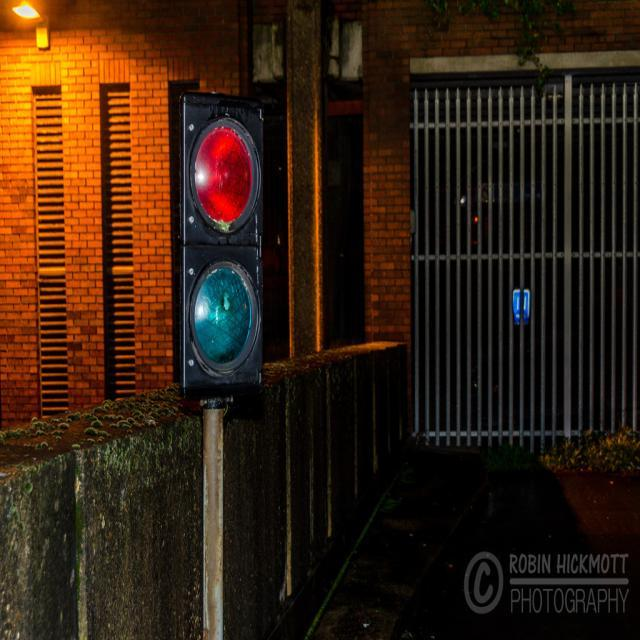traffic light: (181, 93, 266, 408)
